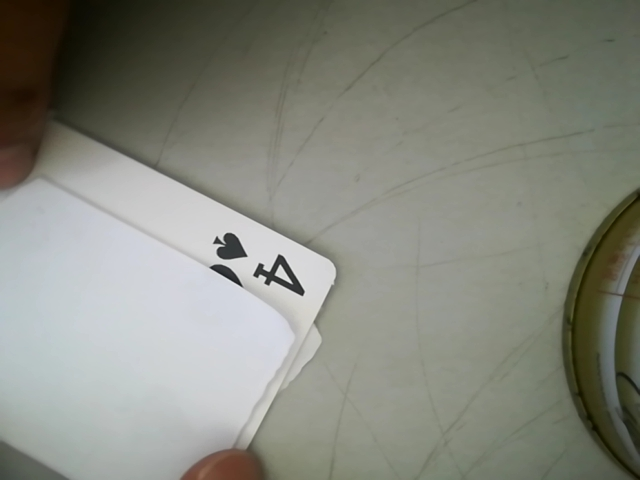ht 4: (187, 220, 323, 305)
